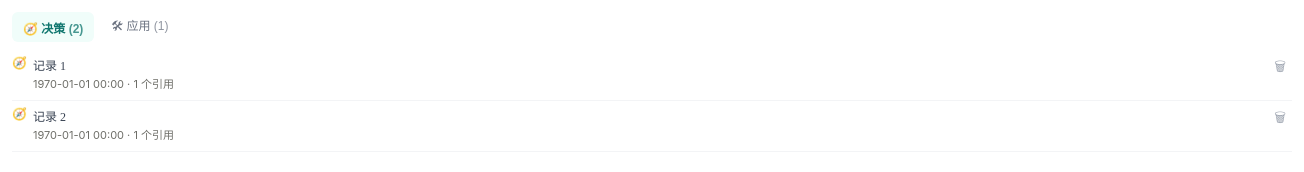
KnowledgeDecisionLog 分 tab / 删除 / 空态 › 分 tab 渲染：决策默认 tab（2 条），应用 tab 徽标计数（1 条），切换显示应用行
Expected: the text with test id "decision-count-decision" reads "(2)", x1=69 y1=22 x2=83 y2=36
Expected: the text with test id "decision-count-application" reads "(1)", x1=154 y1=19 x2=169 y2=33
# 切到应用 tab：显示应用行
Step 1. Click the button with test id "decision-tab-application" → (140, 27), box x1=100 y1=12 x2=180 y2=42
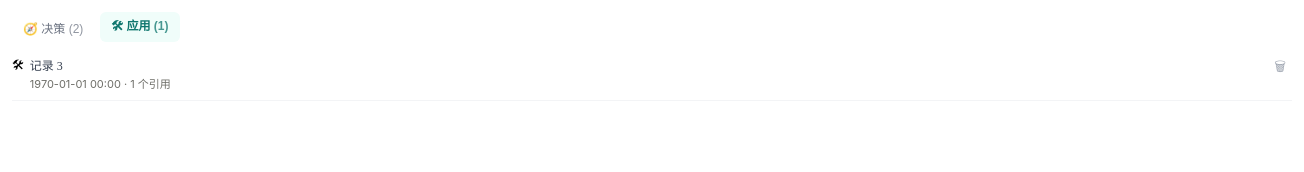
Result: the element with test id "decision-row-3" is shown at x1=12 y1=50 x2=1292 y2=101
Result: the text with test id "decision-kind-3" reads "🛠" at x1=12 y1=58 x2=24 y2=72
